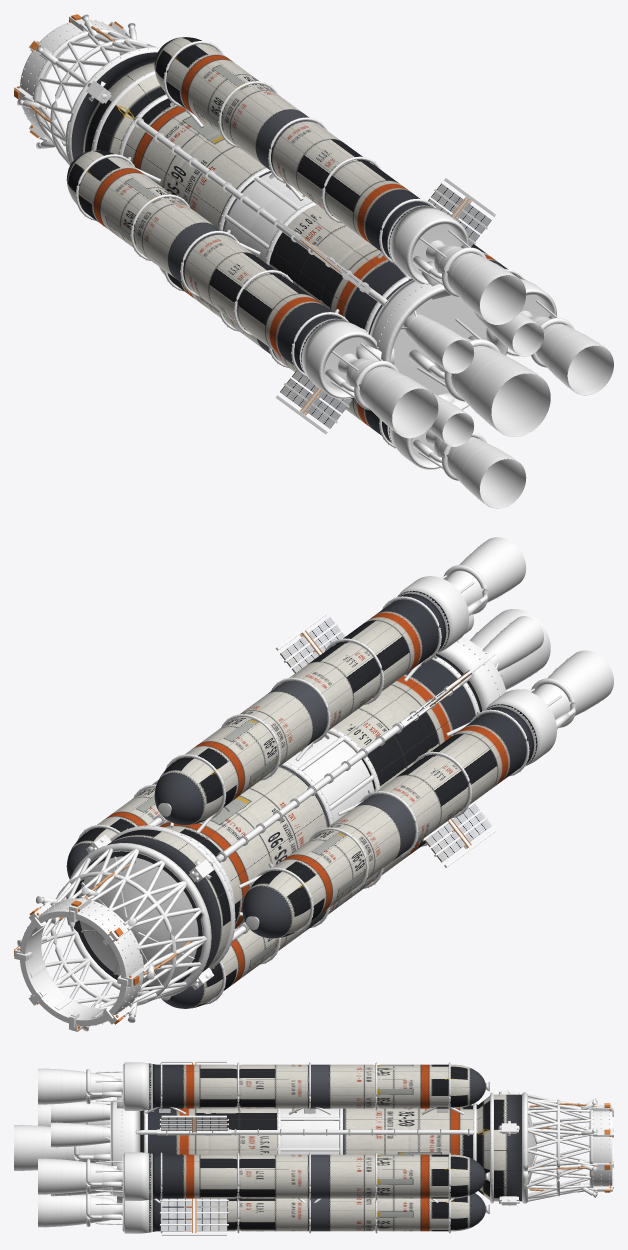
Rendered from mod_bs90_heavy_booster.glb.
The picture shows the model from 3 angles, top to bottom: view 1: azimuth 30°, elevation 25°; view 2: azimuth 150°, elevation 25°; view 3: azimuth 270°, elevation 25°; orthographic projection. The views are drawn at different scales.
Visible parts, largest first — view 1: BS90_9x_Main_Engine_Nozzles, BS90_RadialTank_Dorsal_Body, BS90_RadialTank_Port_Body, BS90_Core_IU_And_Upper_LOX_Tank, BS90_Core_Lower_LH2_Tank, BS90_Aft_Thrust_Bulkhead, BS90_HotStage_Interstage_Truss, BS90_Turbopumps_Manifolds_Gimbals, BS90_Core_Structural_Rings, BS90_RadialTank_Dorsal_EngineSkirt, BS90_RadialTank_Port_EngineSkirt, BS90_InterTank_Gold_MLI (+11 smaller); view 2: BS90_RadialTank_Dorsal_Body, BS90_RadialTank_Port_Body, BS90_Core_IU_And_Upper_LOX_Tank, BS90_HotStage_Interstage_Truss, BS90_9x_Main_Engine_Nozzles, BS90_Core_Lower_LH2_Tank, BS90_Docking_Capture_Collar, BS90_HotStage_Blast_Deflector, BS90_RadialTank_Ventral_Body, BS90_Core_Structural_Rings, BS90_InterTank_Gold_MLI, BS90_Booster_Radiator_Panels (+13 smaller); view 3: BS90_RadialTank_Starboard_Body, BS90_RadialTank_Dorsal_Body, BS90_9x_Main_Engine_Nozzles, BS90_Core_IU_And_Upper_LOX_Tank, BS90_RadialTank_Ventral_Body, BS90_HotStage_Interstage_Truss, BS90_Core_Lower_LH2_Tank, BS90_Booster_Radiator_Panels, BS90_InterTank_Gold_MLI, BS90_Turbopumps_Manifolds_Gimbals, BS90_Booster_Radiator_Frames, BS90_Core_Structural_Rings (+16 smaller).
Part boxes in pixels (x1,y1,x2,y2): BS90_9x_Main_Engine_Nozzles: (338, 240, 613, 508); BS90_RadialTank_Dorsal_Body: (154, 37, 430, 262); BS90_RadialTank_Port_Body: (66, 150, 345, 372); BS90_Core_IU_And_Upper_LOX_Tank: (71, 52, 271, 231); BS90_Core_Lower_LH2_Tank: (269, 205, 412, 334); BS90_Aft_Thrust_Bulkhead: (356, 261, 507, 409); BS90_HotStage_Interstage_Truss: (33, 29, 160, 165); BS90_Turbopumps_Manifolds_Gimbals: (325, 229, 574, 480); BS90_Core_Structural_Rings: (67, 48, 411, 333); BS90_RadialTank_Dorsal_EngineSkirt: (387, 205, 469, 284); BS90_RadialTank_Port_EngineSkirt: (299, 318, 377, 399); BS90_InterTank_Gold_MLI: (224, 172, 312, 261); BS90_RadialTank_Dorsal_Body: (154, 591, 449, 825); BS90_RadialTank_Port_Body: (242, 704, 537, 938); BS90_Core_IU_And_Upper_LOX_Tank: (74, 765, 329, 990); BS90_HotStage_Interstage_Truss: (41, 843, 210, 1008); BS90_9x_Main_Engine_Nozzles: (446, 537, 613, 719); BS90_Core_Lower_LH2_Tank: (327, 654, 482, 791); BS90_Docking_Capture_Collar: (20, 898, 142, 1026); BS90_HotStage_Blast_Deflector: (78, 856, 198, 985); BS90_RadialTank_Ventral_Body: (162, 839, 425, 1008); BS90_Core_Structural_Rings: (70, 656, 479, 969); BS90_InterTank_Gold_MLI: (286, 732, 374, 822); BS90_Booster_Radiator_Panels: (280, 617, 491, 862); BS90_RadialTank_Starboard_Body: (149, 1153, 485, 1199); BS90_RadialTank_Dorsal_Body: (149, 1063, 485, 1109); BS90_9x_Main_Engine_Nozzles: (14, 1068, 122, 1227); BS90_Core_IU_And_Upper_LOX_Tank: (343, 1094, 521, 1201); BS90_RadialTank_Ventral_Body: (149, 1193, 485, 1232); BS90_HotStage_Interstage_Truss: (523, 1092, 592, 1203); BS90_Core_Lower_LH2_Tank: (140, 1108, 276, 1155); BS90_Booster_Radiator_Panels: (161, 1117, 227, 1230); BS90_InterTank_Gold_MLI: (280, 1108, 338, 1154); BS90_Turbopumps_Manifolds_Gimbals: (74, 1069, 122, 1226); BS90_Booster_Radiator_Frames: (157, 1060, 231, 1235); BS90_Core_Structural_Rings: (144, 1092, 525, 1203).
Bounding box in the file's own units: 21.36 × 21.36 × 69.54.
Materials: 11 (2 with a texture image).
